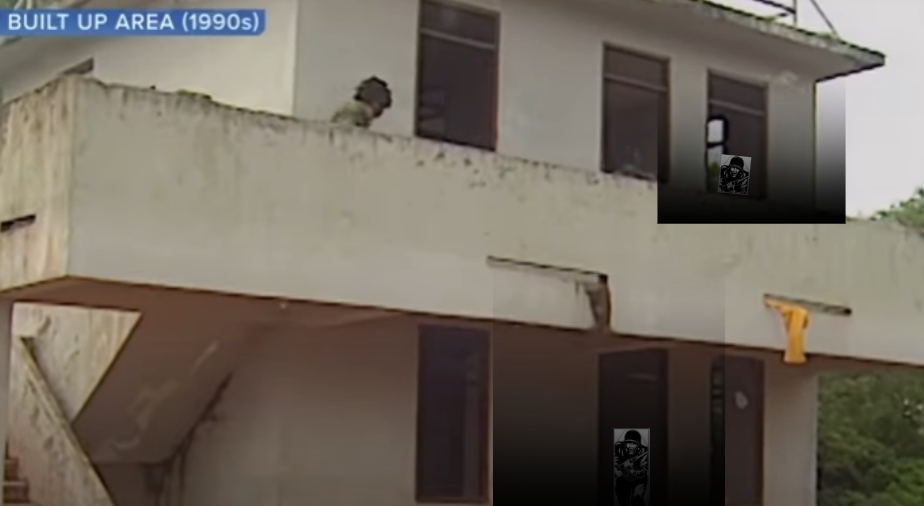HVT1: (614, 428, 649, 505), (720, 154, 749, 194)
